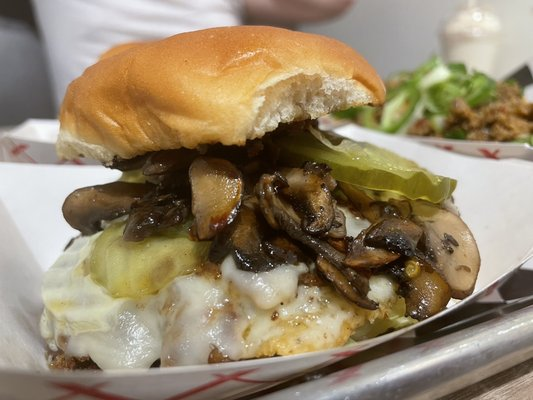soup: (38, 23, 498, 394)
